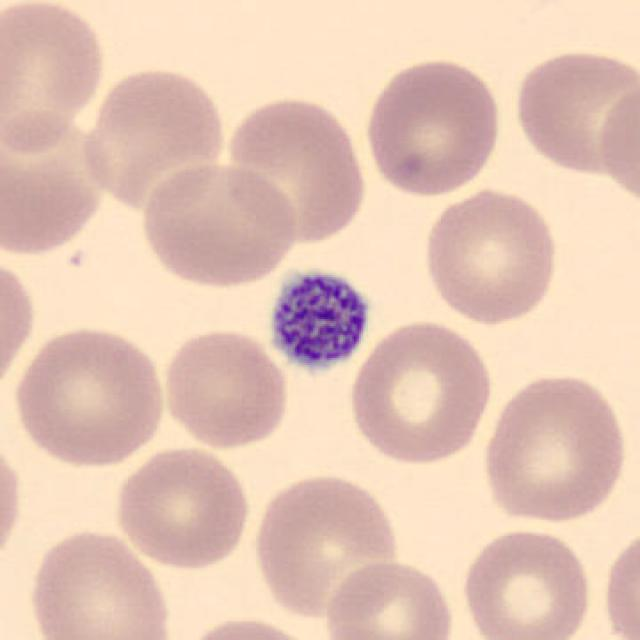Platelets: (263, 263, 373, 377)
RBC: (478, 367, 631, 527), (9, 321, 169, 471), (220, 92, 372, 247), (251, 469, 404, 622), (345, 316, 498, 467), (76, 62, 230, 212), (137, 159, 300, 291), (361, 53, 507, 199), (419, 183, 564, 328), (110, 443, 254, 573), (23, 523, 177, 640), (158, 324, 294, 452), (508, 44, 636, 178), (0, 0, 110, 155), (0, 107, 108, 259), (456, 523, 595, 640), (320, 555, 459, 640), (592, 72, 638, 215), (0, 251, 39, 398), (599, 520, 640, 640), (175, 613, 325, 640), (0, 430, 27, 577)
